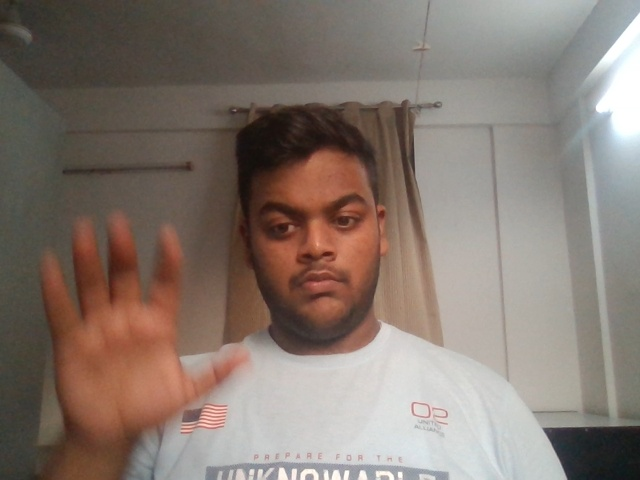Hello: (19, 197, 262, 467)
